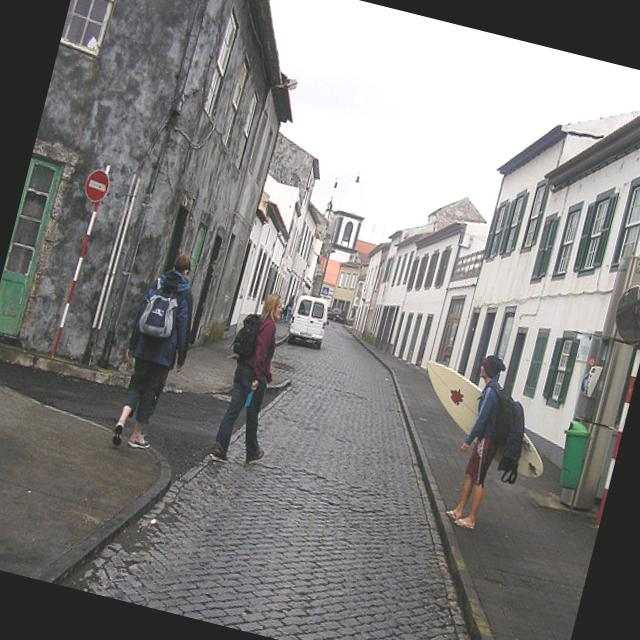Vehicle: (285, 292, 335, 350), (326, 304, 350, 325)
